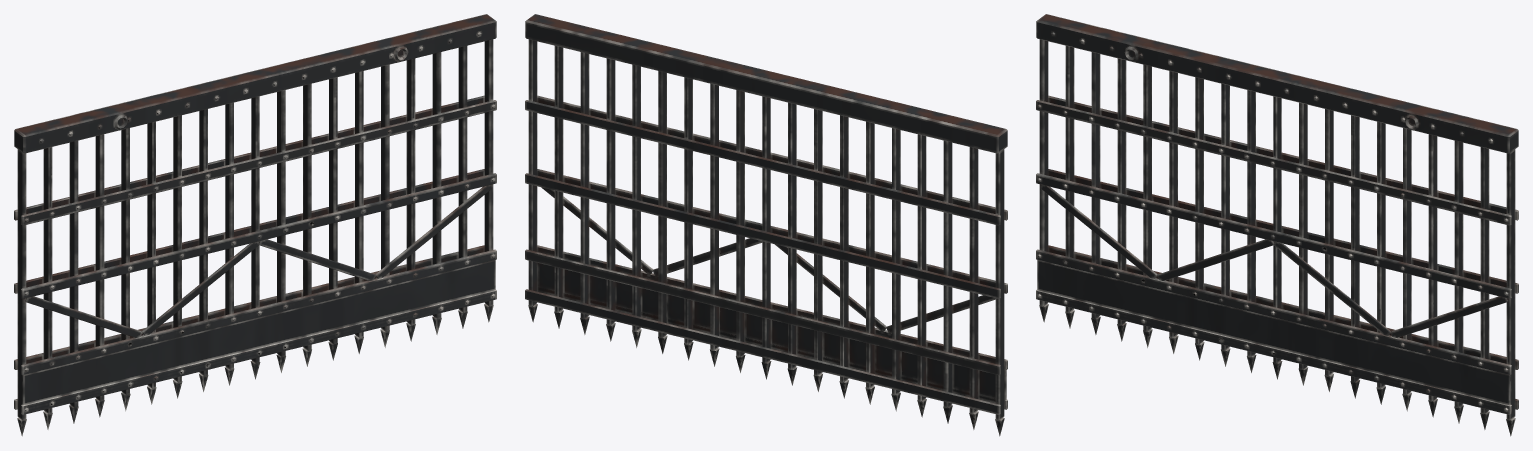
The model's file is foundry_gate.glb.
3 views of the same model, side by side, from view 1: azimuth 30°, elevation 25°; view 2: azimuth 150°, elevation 25°; view 3: azimuth 330°, elevation 25° (orthographic).
Visible parts, largest first — view 1: foundry_gate; view 2: foundry_gate; view 3: foundry_gate.
Part boxes in pixels (box(x1,y1,x2,y2)): foundry_gate: box(14, 14, 496, 436); foundry_gate: box(525, 14, 1007, 436); foundry_gate: box(1036, 14, 1518, 436).
Size of the model in its own units: 8.14 by 5 by 0.35.
Materials: 1 (1 with a texture image).
